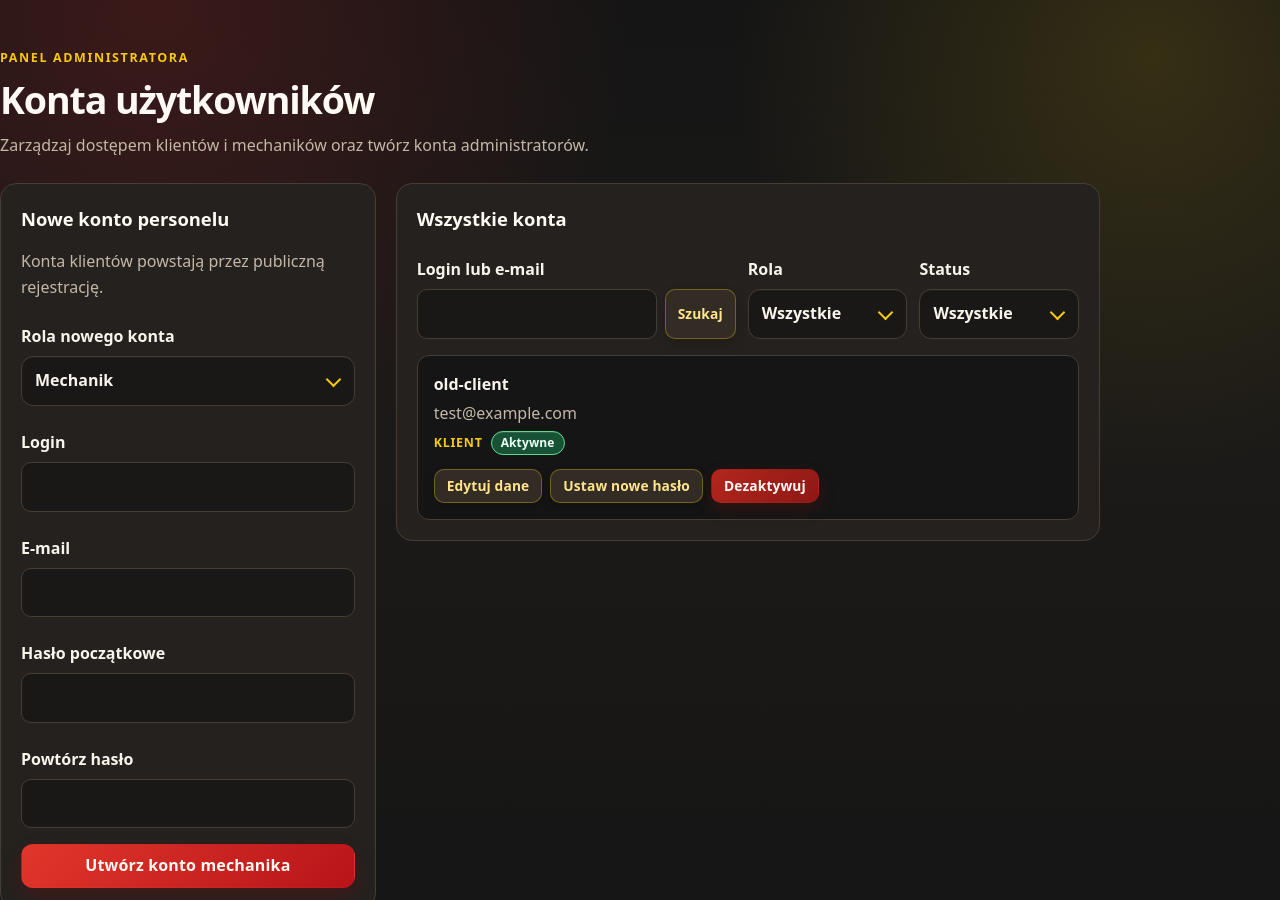
Test case: does not show old accounts or a false empty state after filtering fails
Expected: the text "old-client" is shown, [434, 373, 509, 395]
Click the dropdown named "Rola" at (828, 314), box [748, 289, 907, 339]
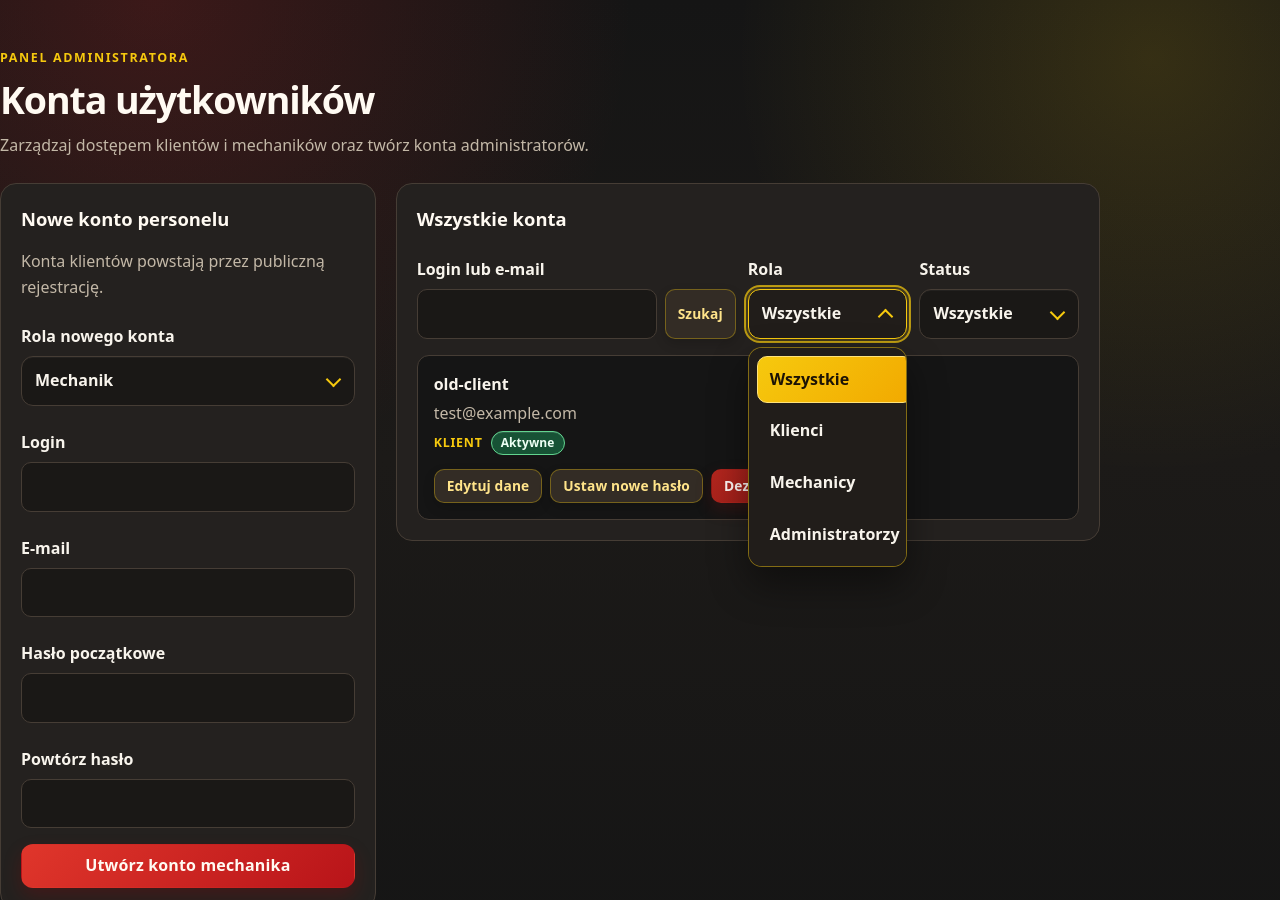
Click the option "Wszystkie" at (835, 380), box [757, 356, 912, 403]
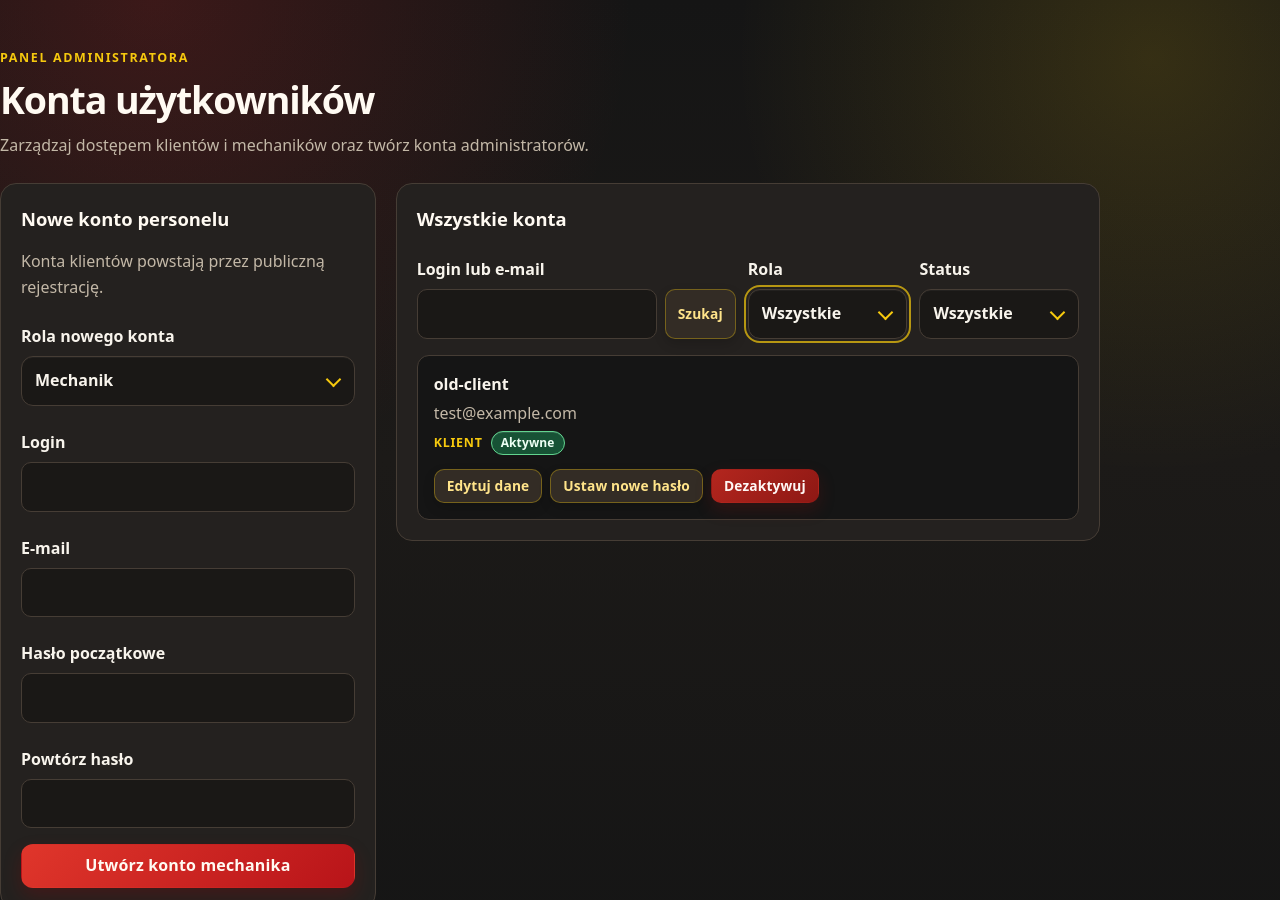
Click the dropdown named "Rola" at (828, 314), box [748, 289, 907, 339]
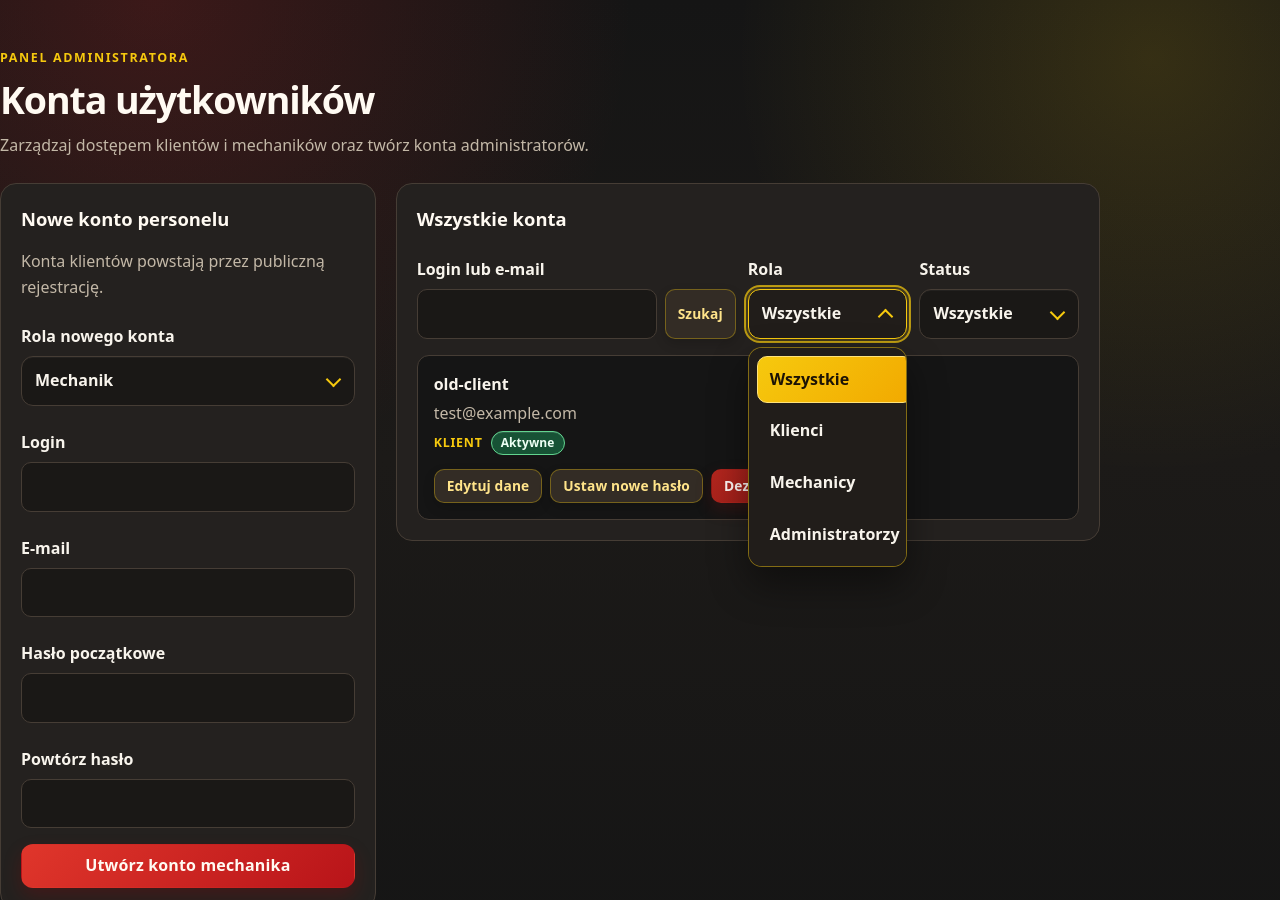
Click the option "Mechanicy" at (813, 482), box [770, 471, 856, 493]
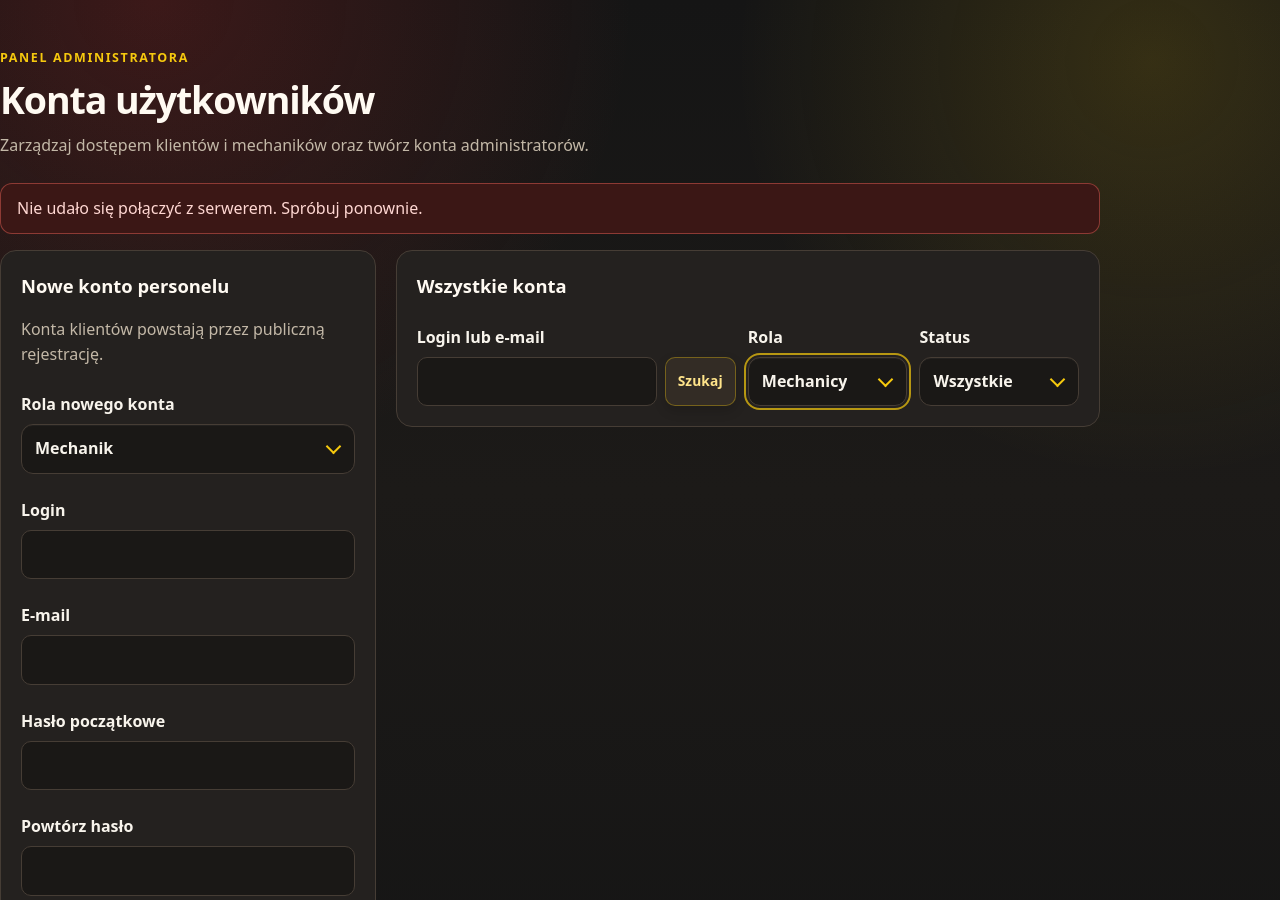
Expected: the text "Nie znaleziono kont spełniających wybrane kryteria." is not shown
Expected: the message shows "Nie udało się połączyć", [17, 197, 422, 219]
Expected: the text "old-client" is gone
Click the button "Szukaj" at (700, 382), box [665, 357, 736, 406]
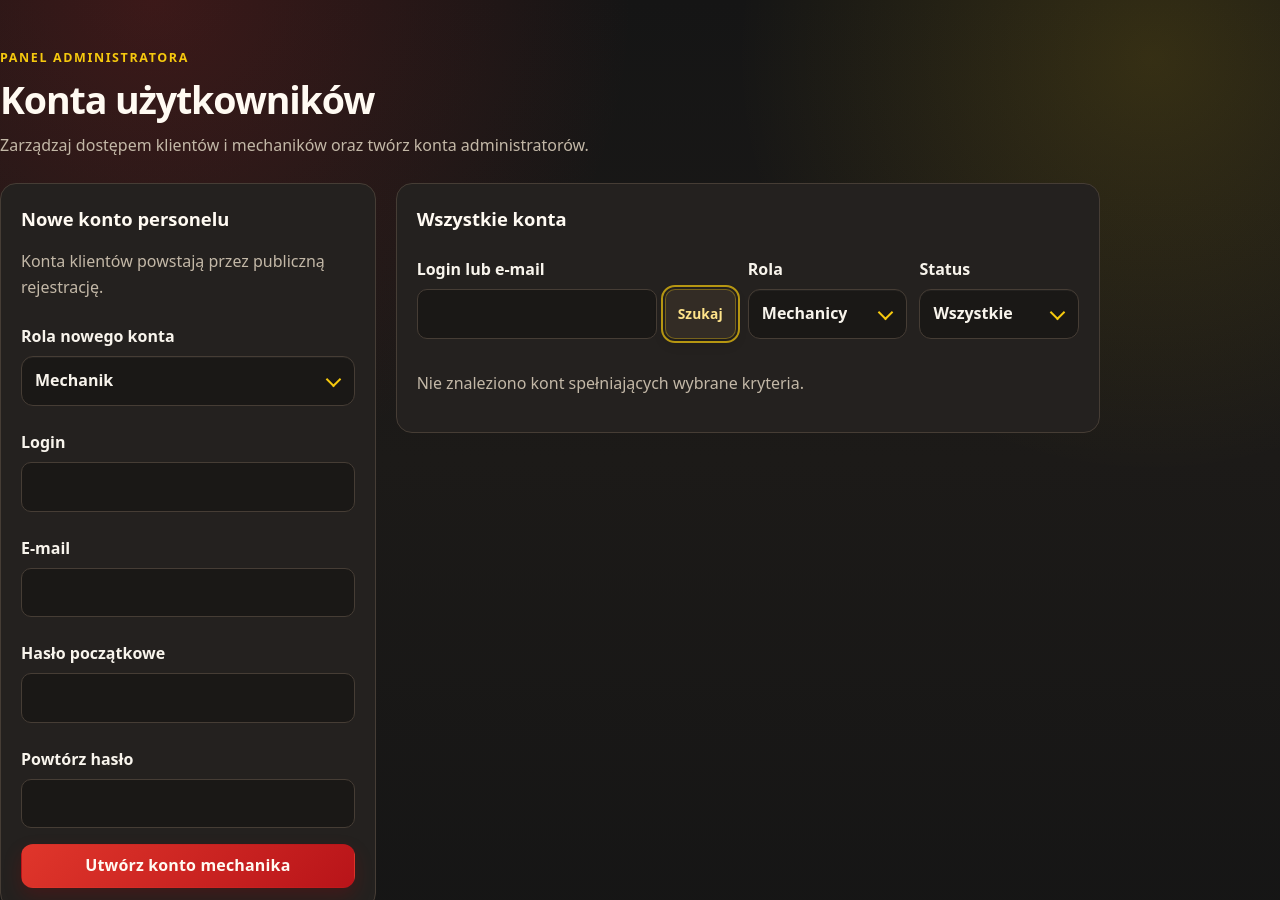
Expected: the text "Nie znaleziono kont spełniających wybrane kryteria." is shown, [417, 372, 804, 394]
